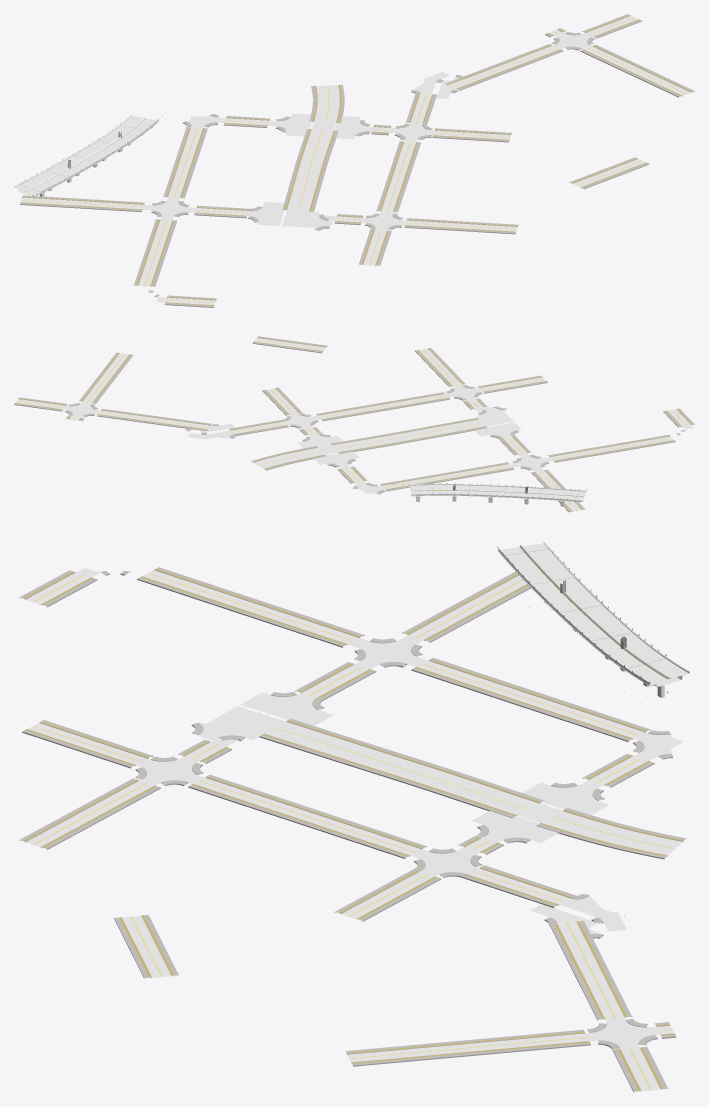
Rendered from roads_1_3.gltf.
3 renders of one model, top to bottom at view 1: azimuth 30°, elevation 25°; view 2: azimuth 150°, elevation 25°; view 3: azimuth 270°, elevation 25°, orthographic. The views are drawn at different scales.
Parts seen in each view (by area): view 1: roads_1_3_SH_wet_asphalt, roads_1_3_SH_sidewalk, roads_1_3_Road_Tactile_Strip, roads_1_3_SH_kerb, roads_1_3_SH_concrete_pier, roads_1_3_SH_road_marking_white, roads_1_3_SH_road_marking_yellow, roads_1_3_SH_concrete_barrier; view 2: roads_1_3_SH_wet_asphalt, roads_1_3_SH_sidewalk, roads_1_3_Road_Tactile_Strip, roads_1_3_SH_kerb, roads_1_3_SH_concrete_pier, roads_1_3_SH_concrete_barrier, roads_1_3_SH_road_marking_white, roads_1_3_SH_road_marking_yellow; view 3: roads_1_3_SH_wet_asphalt, roads_1_3_SH_sidewalk, roads_1_3_Road_Tactile_Strip, roads_1_3_SH_concrete_pier, roads_1_3_SH_kerb, roads_1_3_SH_road_marking_white, roads_1_3_SH_road_marking_yellow, roads_1_3_SH_concrete_barrier.
Boxes of the visible parts, x1=… form: roads_1_3_SH_wet_asphalt: x1=17, y1=16, x2=690, y2=305; roads_1_3_SH_sidewalk: x1=20, y1=14, x2=694, y2=307; roads_1_3_Road_Tactile_Strip: x1=20, y1=15, x2=691, y2=305; roads_1_3_SH_kerb: x1=22, y1=15, x2=691, y2=305; roads_1_3_SH_concrete_pier: x1=14, y1=115, x2=158, y2=196; roads_1_3_SH_road_marking_white: x1=15, y1=16, x2=690, y2=300; roads_1_3_SH_road_marking_yellow: x1=22, y1=17, x2=685, y2=302; roads_1_3_SH_concrete_barrier: x1=14, y1=114, x2=158, y2=195; roads_1_3_SH_wet_asphalt: x1=15, y1=338, x2=693, y2=511; roads_1_3_SH_sidewalk: x1=14, y1=336, x2=694, y2=512; roads_1_3_Road_Tactile_Strip: x1=15, y1=337, x2=691, y2=511; roads_1_3_SH_kerb: x1=17, y1=337, x2=690, y2=511; roads_1_3_SH_concrete_pier: x1=410, y1=485, x2=585, y2=506; roads_1_3_SH_concrete_barrier: x1=410, y1=484, x2=585, y2=501; roads_1_3_SH_road_marking_white: x1=20, y1=338, x2=690, y2=510; roads_1_3_SH_road_marking_yellow: x1=18, y1=339, x2=686, y2=510; roads_1_3_SH_wet_asphalt: x1=26, y1=543, x2=687, y2=1091; roads_1_3_SH_sidewalk: x1=19, y1=567, x2=686, y2=1092; roads_1_3_Road_Tactile_Strip: x1=24, y1=569, x2=683, y2=1091; roads_1_3_SH_concrete_pier: x1=497, y1=543, x2=689, y2=697; roads_1_3_SH_kerb: x1=25, y1=569, x2=683, y2=1090; roads_1_3_SH_road_marking_white: x1=26, y1=543, x2=687, y2=1090; roads_1_3_SH_road_marking_yellow: x1=33, y1=547, x2=675, y2=1090; roads_1_3_SH_concrete_barrier: x1=498, y1=541, x2=689, y2=684.
Size of what is drawn, in the model's own units: 516 by 16.18 by 277.
